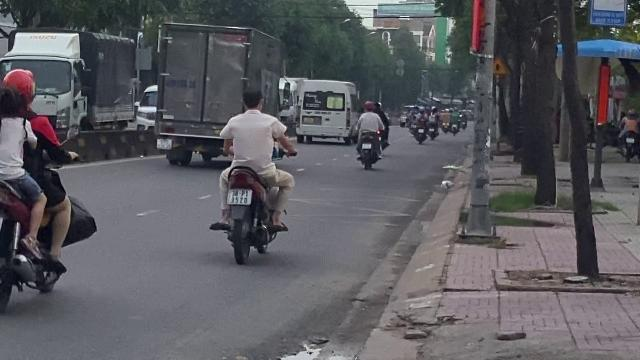helmet: (0, 69, 40, 107)
licenseplate: (226, 188, 250, 204)
motorcyclist: (0, 64, 80, 318), (208, 86, 296, 264)
nohelmet: (240, 88, 264, 112)
